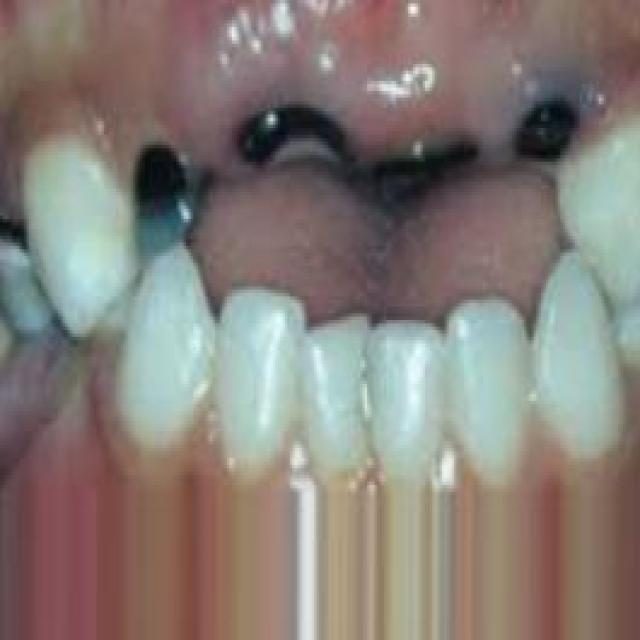caries: (121, 136, 221, 266), (234, 80, 354, 186), (499, 86, 598, 184), (370, 117, 479, 203), (0, 191, 50, 284)
